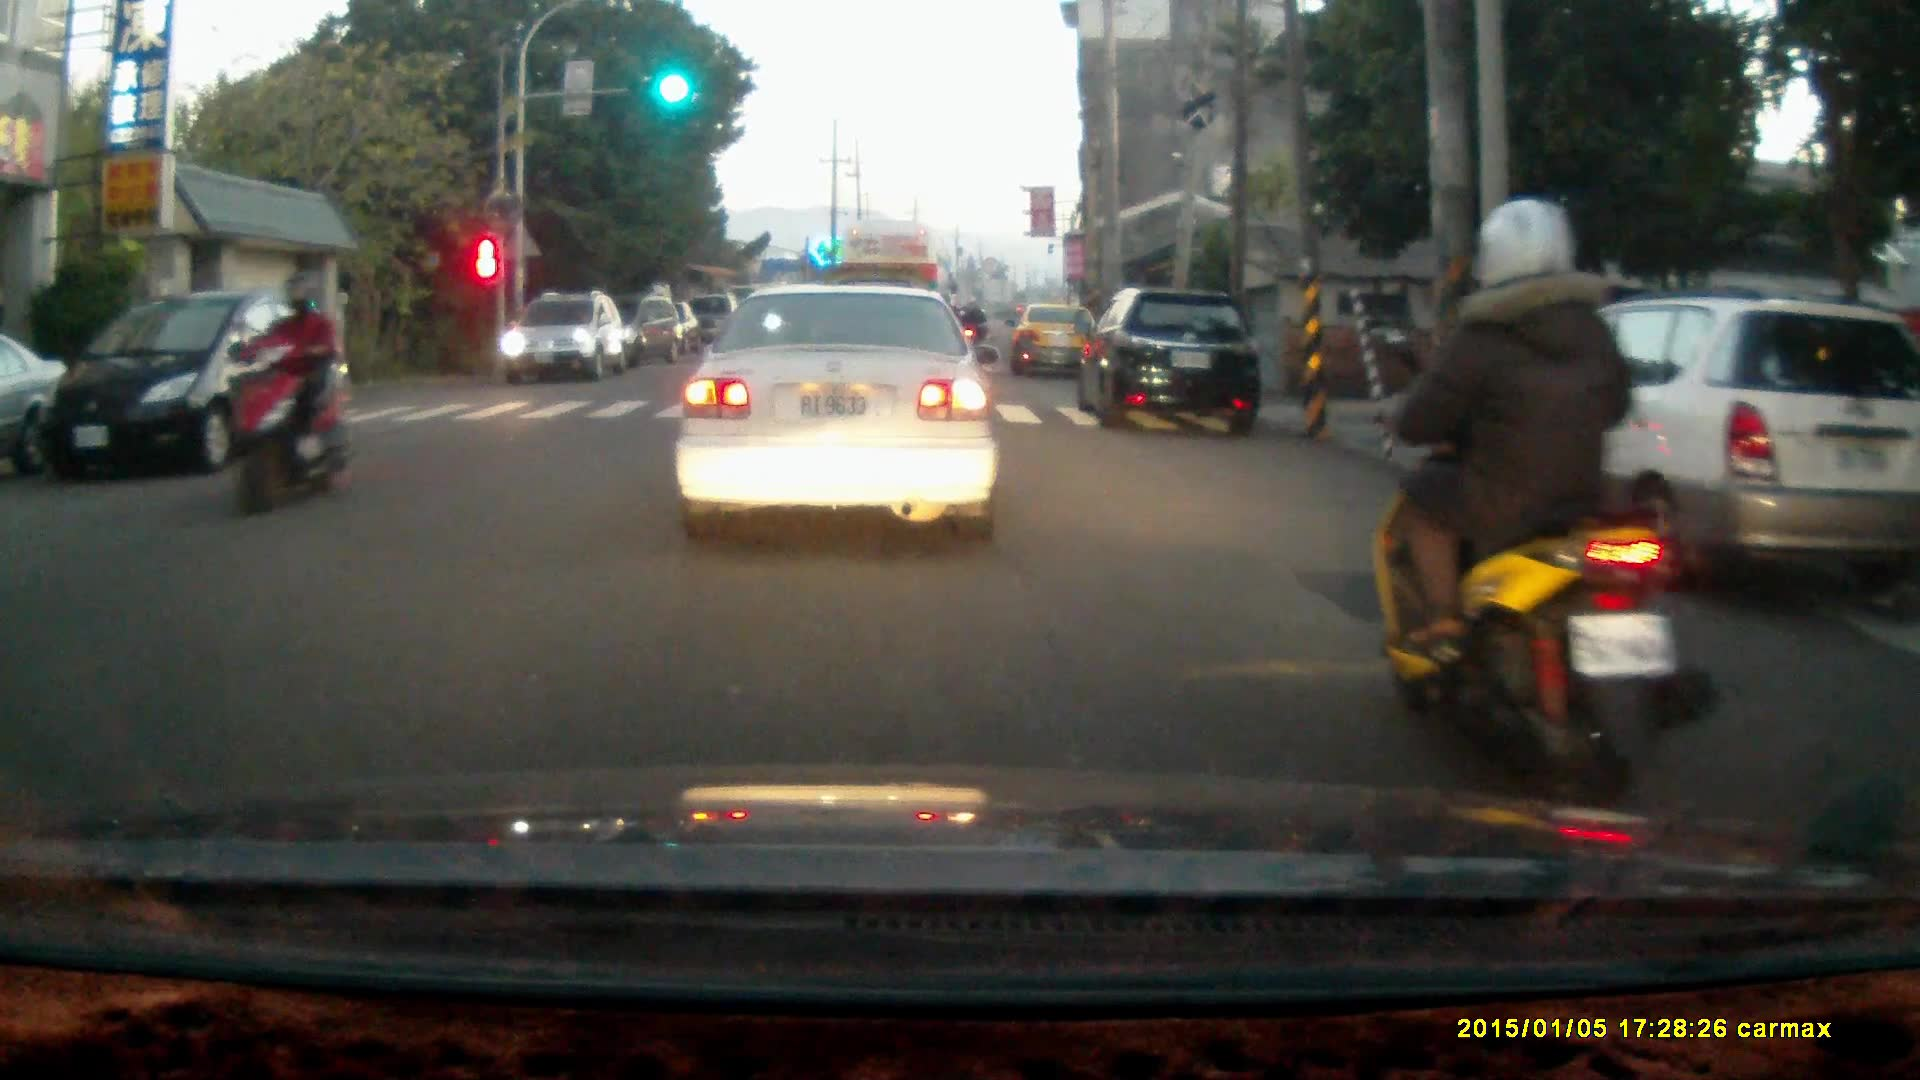rider: (1364, 197, 1719, 832), (228, 268, 347, 513)
vehicle: (1477, 295, 1920, 586), (678, 277, 1001, 543), (36, 285, 363, 480), (1083, 282, 1256, 428), (832, 215, 949, 363), (501, 293, 630, 381), (1010, 302, 1108, 379)
